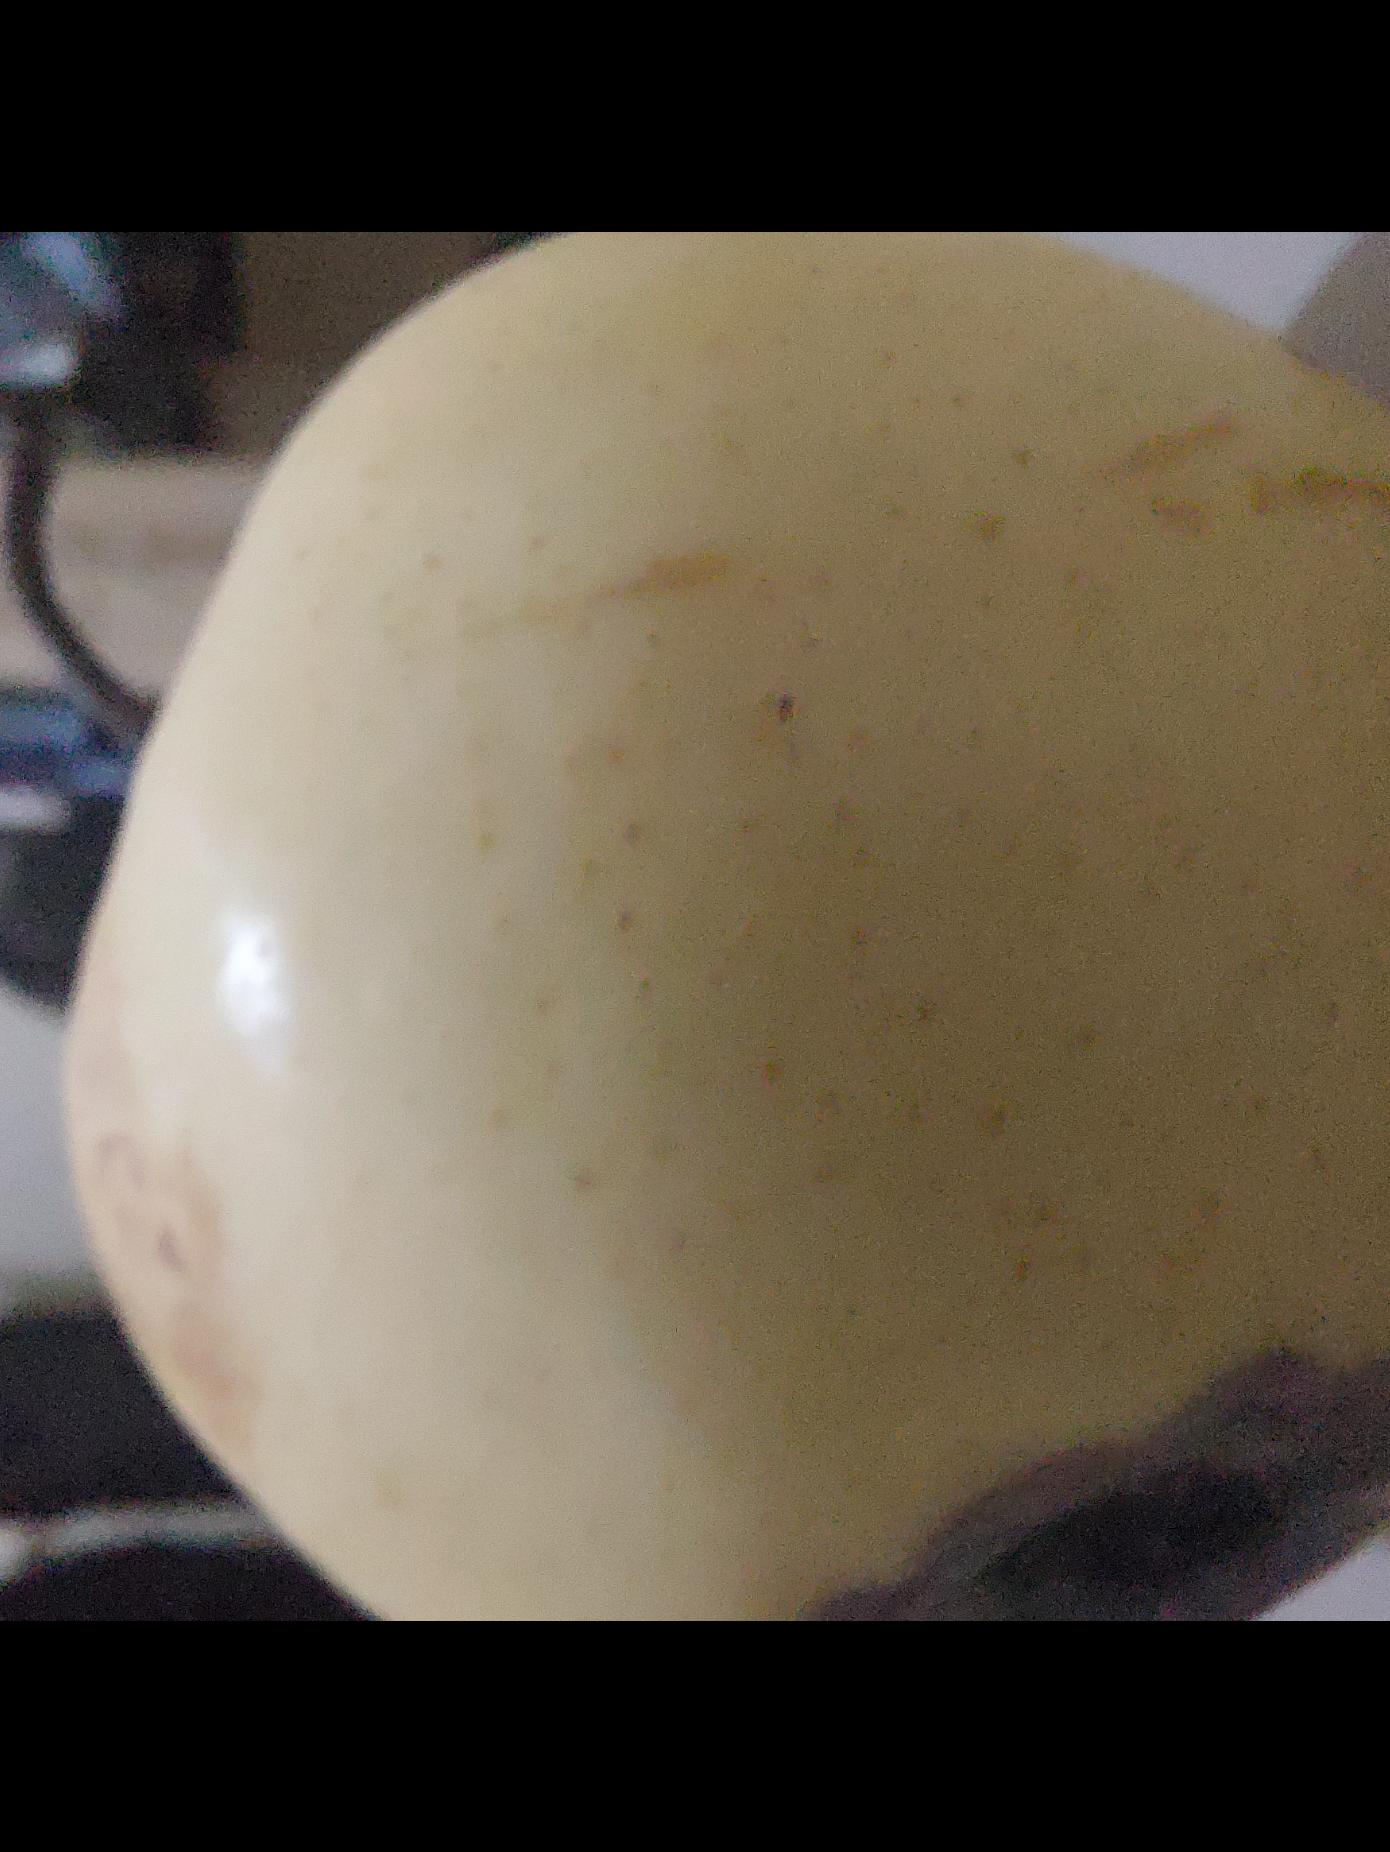Bad Pear: (60, 231, 1390, 1621)
